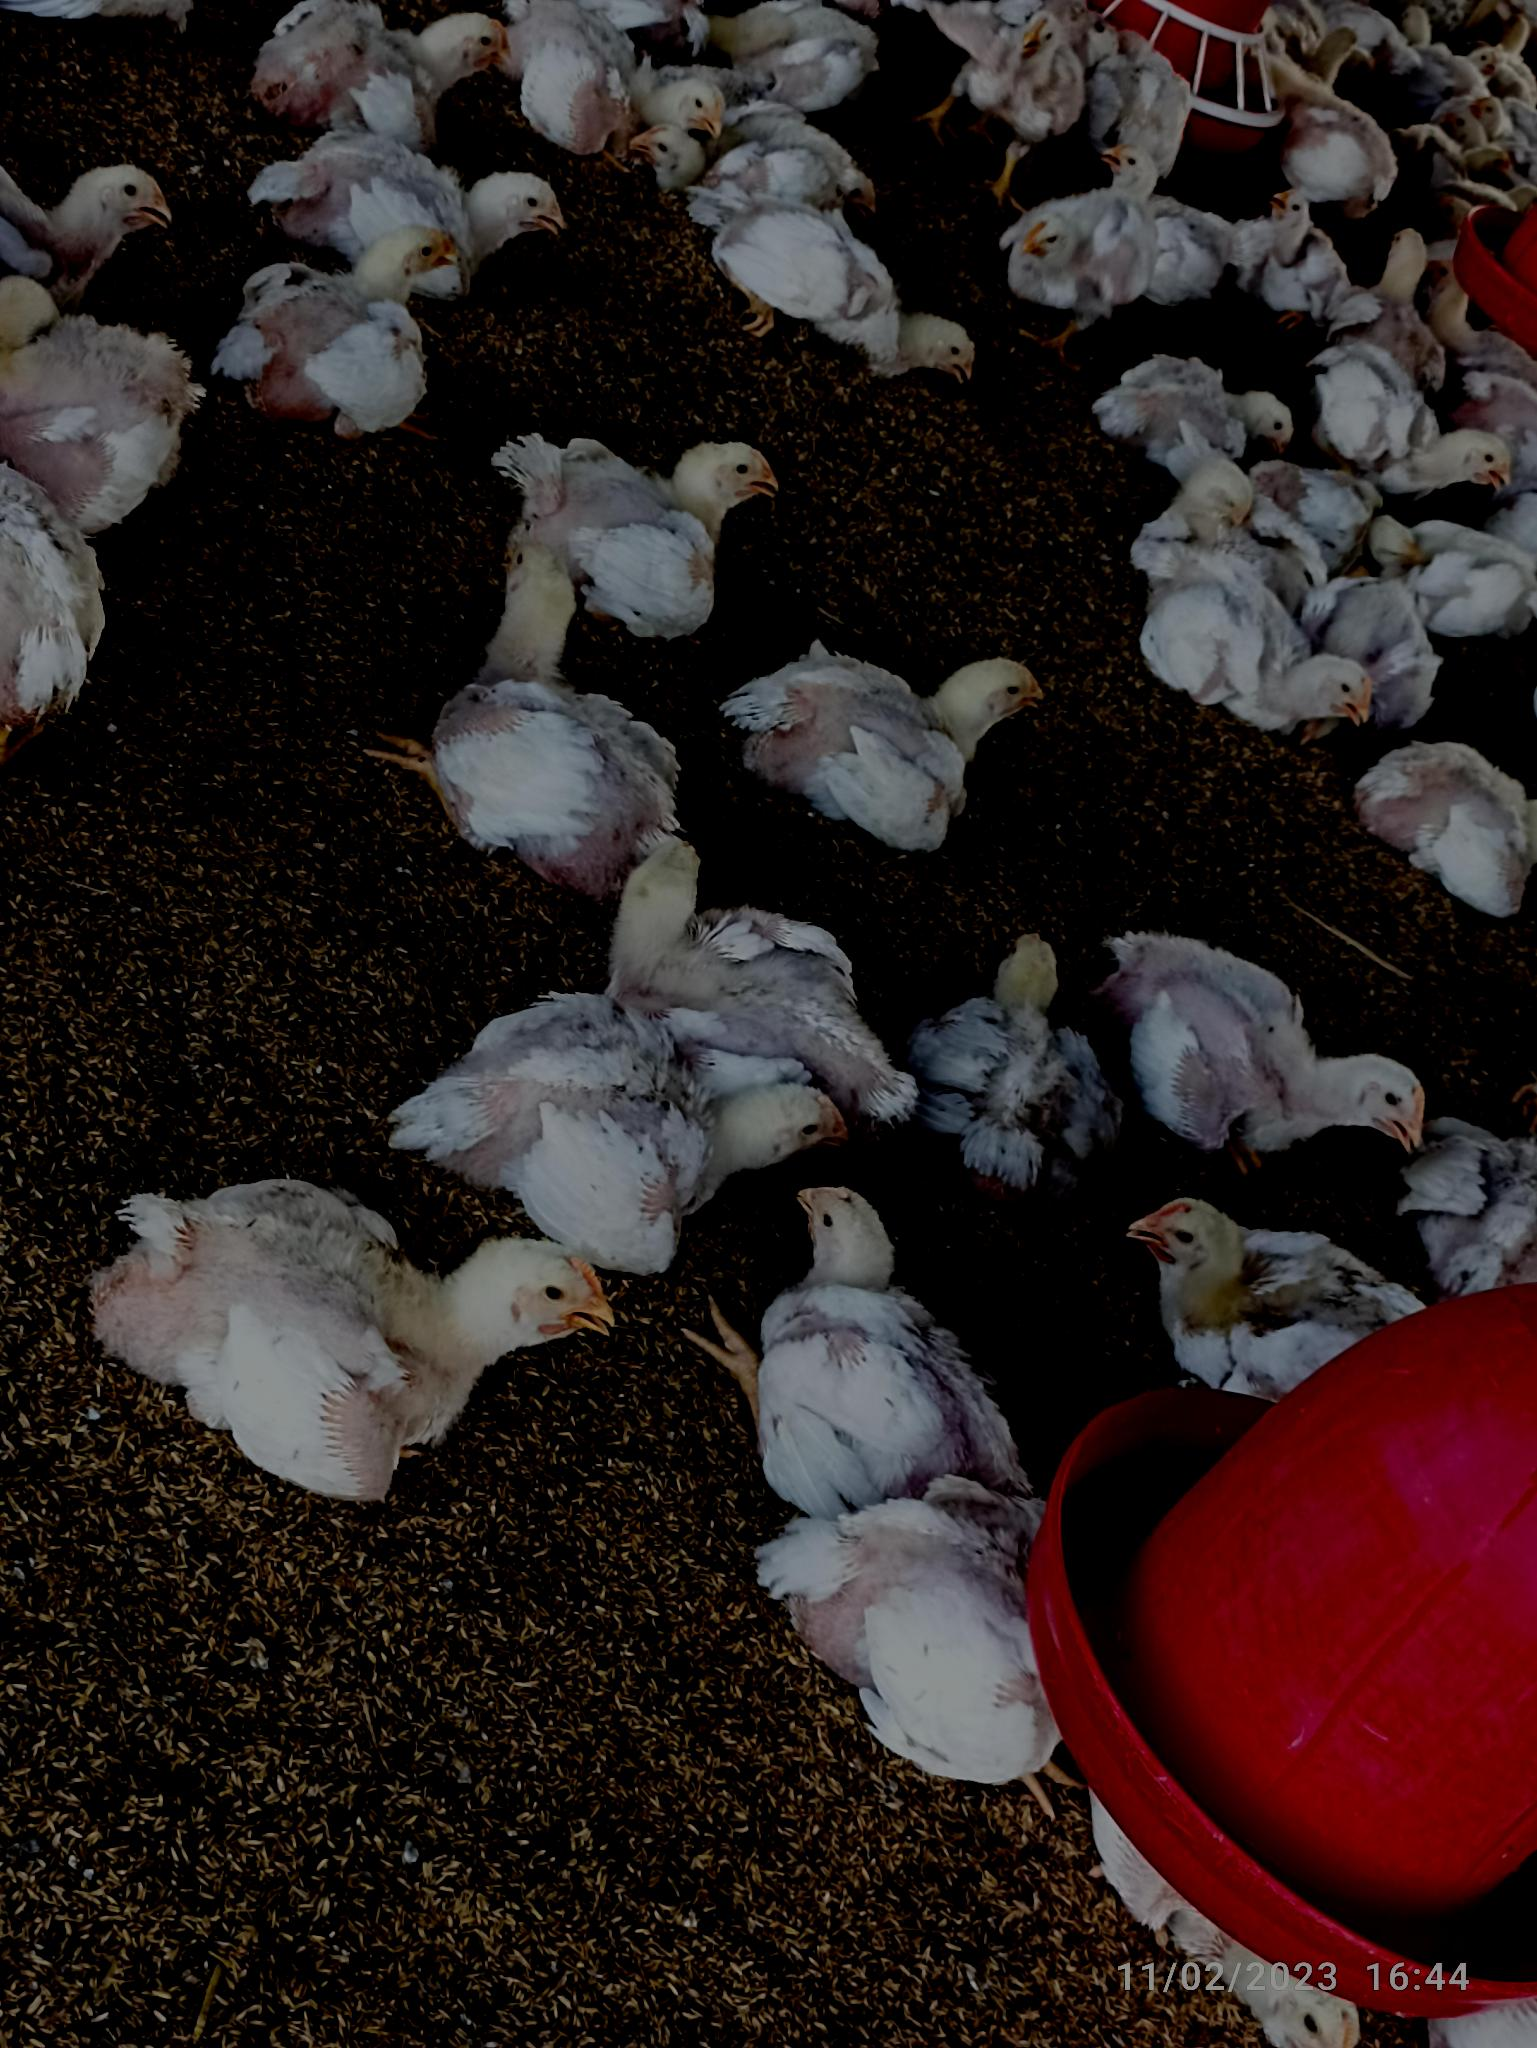Pollos: (103, 1172, 575, 1493), (404, 991, 849, 1194), (1112, 925, 1430, 1156), (780, 1186, 1016, 1480), (494, 416, 778, 626), (743, 647, 1049, 813), (936, 909, 1103, 1209), (1137, 1186, 1397, 1377), (1140, 549, 1380, 754), (234, 228, 471, 418), (715, 219, 956, 395), (245, 2, 500, 155), (1011, 189, 1208, 323), (1108, 352, 1296, 449)
